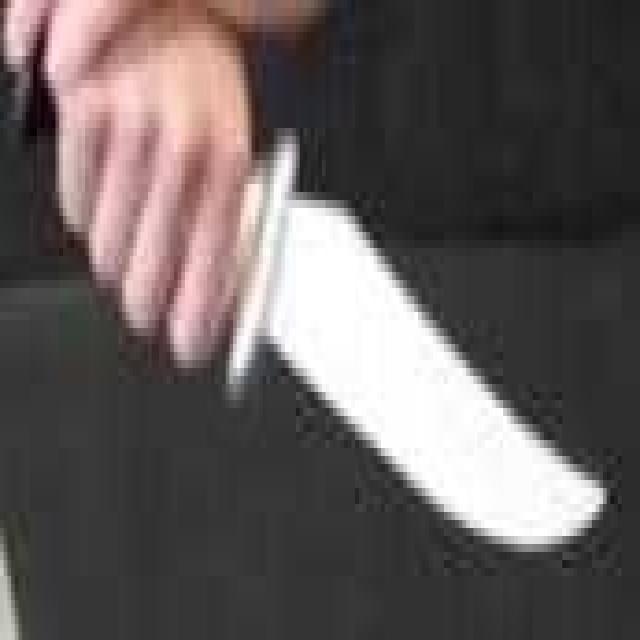knife: (165, 113, 615, 592)
